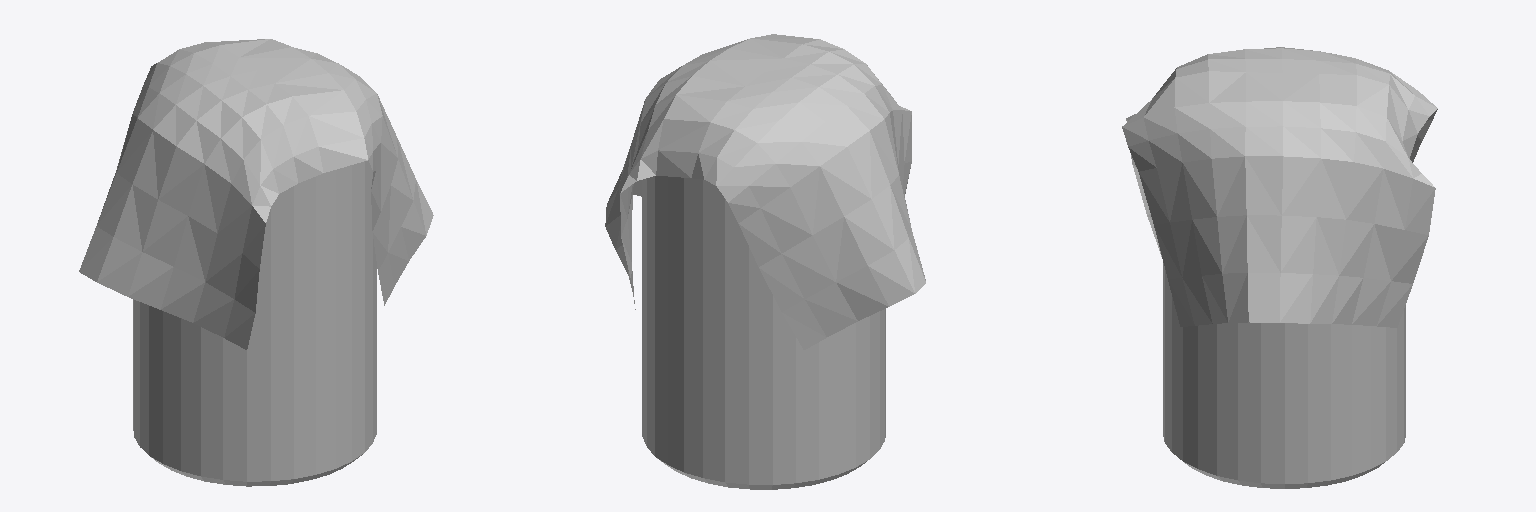
File: Barrel_singleCloth.obj
3 renders of one model, left to right at view 1: azimuth 30°, elevation 25°; view 2: azimuth 150°, elevation 25°; view 3: azimuth 270°, elevation 25°, orthographic.
Parts seen in each view (by area): view 1: 1_barrel_cloth; view 2: 1_barrel_cloth; view 3: 1_barrel_cloth.
Part boxes in pixels (x1,y1,x2,y2): 1_barrel_cloth: (79,39,433,486); 1_barrel_cloth: (605,34,925,489); 1_barrel_cloth: (1122,47,1437,488).
Size of the model in its own units: 1.23 by 1.34 by 1.04.